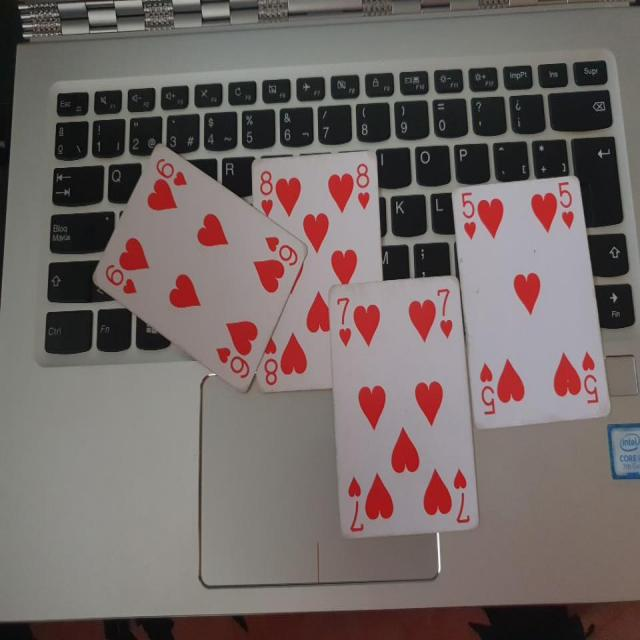5 Hearts: (448, 169, 613, 435)
6 Hearts: (86, 148, 307, 396)
7 Hearts: (324, 271, 484, 538)
8 Hearts: (244, 150, 397, 395)
